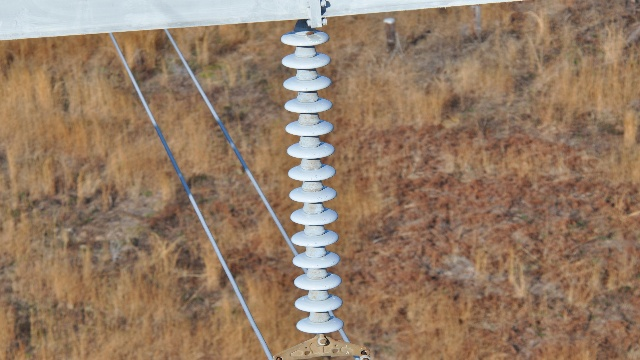insulator_unspecified: (281, 26, 345, 333)
pollution_flashover_local: (305, 32, 324, 43)
